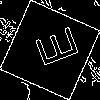E: (25, 25, 80, 72)
